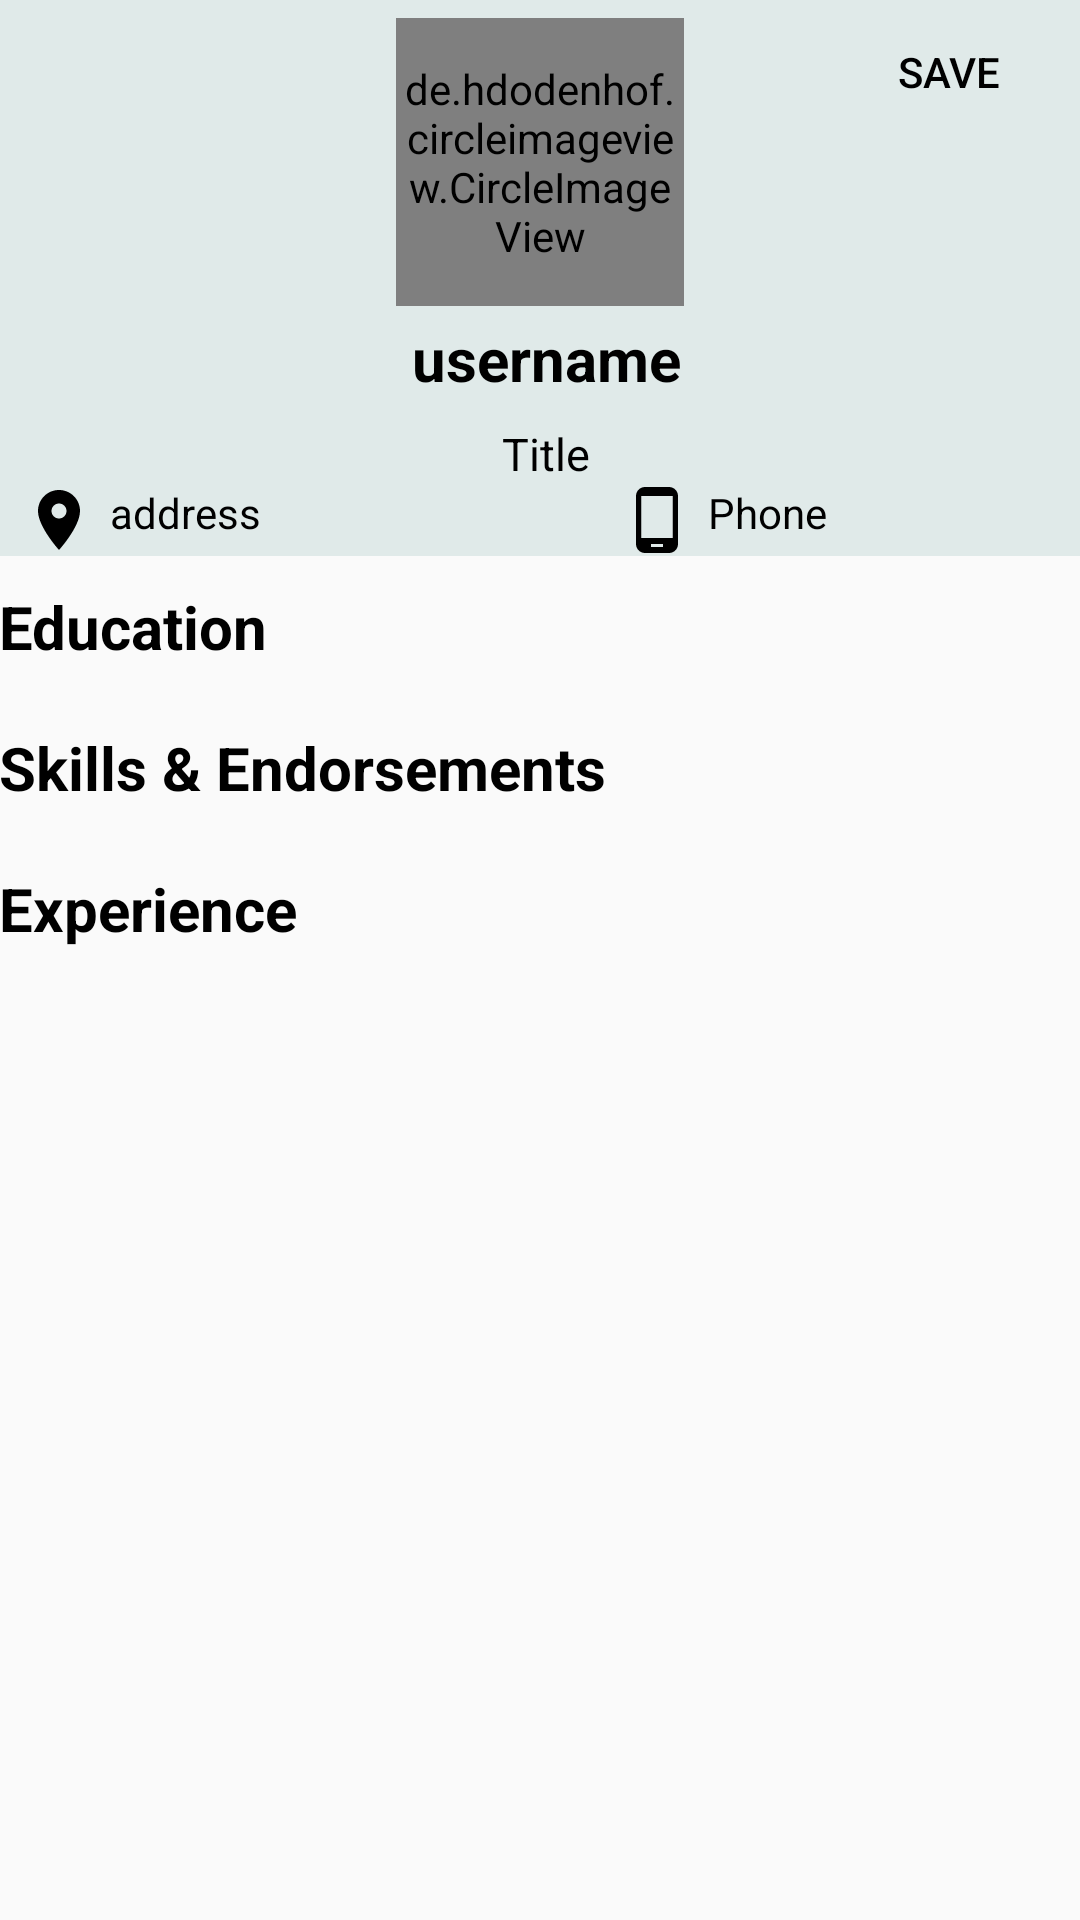

Named icons in this screenshot (1080 × 1920) and their centers, point (x, y):
location: point (59, 520)
